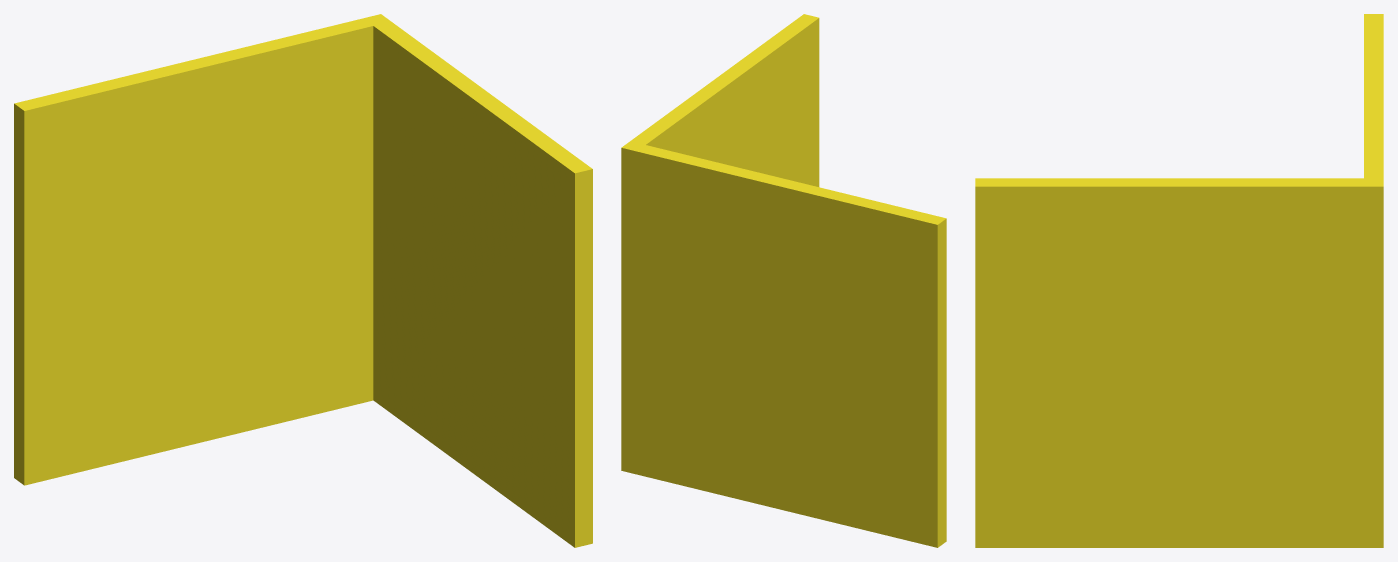
File: Wal_8_Corner_A.fbx
3 views of the same model, side by side, from view 1: azimuth 30°, elevation 25°; view 2: azimuth 150°, elevation 25°; view 3: azimuth 270°, elevation 25° (orthographic). The views are drawn at different scales.
Visible parts, largest first — view 1: polySurface52; view 2: polySurface52; view 3: polySurface52.
Boxes of the visible parts, x1,y1,x2,y2 form: polySurface52: (14, 14, 592, 547); polySurface52: (621, 14, 946, 547); polySurface52: (975, 14, 1383, 547).
Size of the model in its own units: 4.1 by 4 by 4.1.
1 material, 1 textured.
